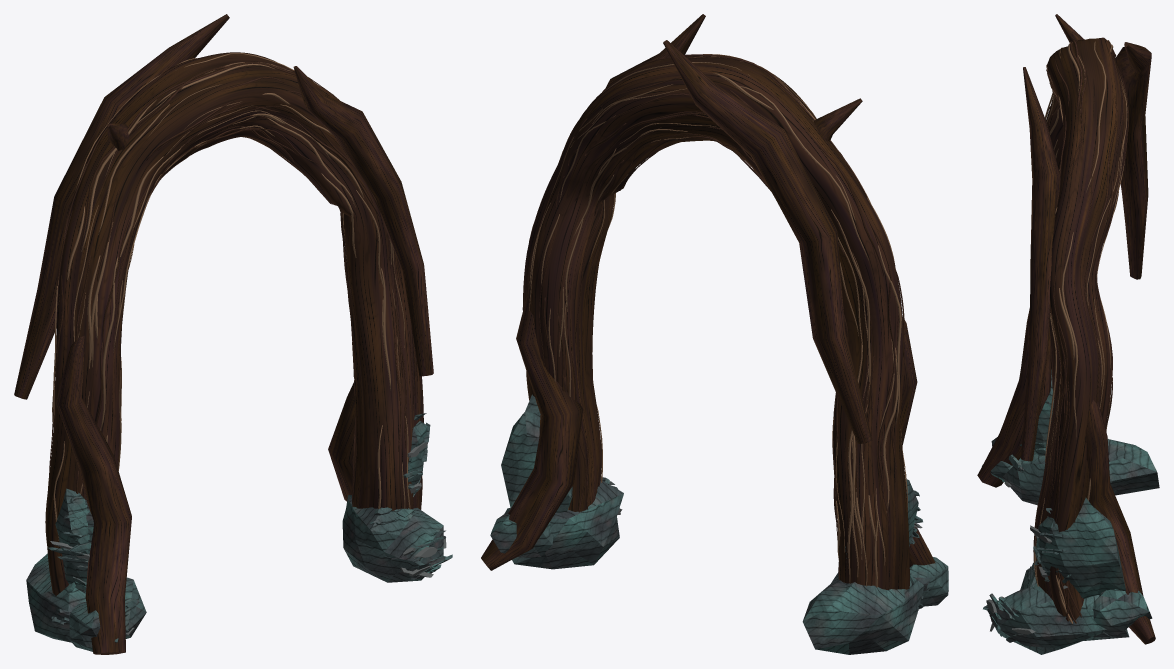
Rendered from buried_forest_root_arch_refined.glb.
3 renders of one model, left to right at view 1: azimuth 30°, elevation 25°; view 2: azimuth 150°, elevation 25°; view 3: azimuth 270°, elevation 25°, orthographic. The views are drawn at different scales.
Visible parts, largest first — view 1: Main vault root, Left grasping root, Right crown fork, Frayed longitudinal root fibers 2, Rear crown fork, Frayed longitudinal root fibers 1, Right footing, Left footing, Fractured laminae and edge spalls 1, Right grasping root, Broken left upright, Left moss fragment (+2 smaller); view 2: Main vault root, Rear crown fork, Right grasping root, Frayed longitudinal root fibers 2, Frayed longitudinal root fibers 1, Left footing, Right footing, Broken right upright, Left grasping root, Left moss fragment, Right moss fragment, Left crown spur (+1 smaller); view 3: Main vault root, Right crown fork, Rear crown fork, Broken right upright, Frayed longitudinal root fibers 1, Right footing, Right grasping root, Left footing, Frayed longitudinal root fibers 2, Left grasping root, Right moss fragment, Fractured laminae and edge spalls 1 (+4 smaller).
Boxes of the visible parts, x1,y1,x2,y2 form: Main vault root: (45,52,423,595); Left grasping root: (56,335,131,654); Right crown fork: (293,66,433,376); Frayed longitudinal root fibers 2: (48,53,422,540); Rear crown fork: (14,14,229,399); Frayed longitudinal root fibers 1: (49,61,423,508); Right footing: (342,498,443,582); Left footing: (26,553,146,642); Fractured laminae and edge spalls 1: (48,413,452,628); Right grasping root: (328,380,356,501); Broken left upright: (55,488,93,593); Left moss fragment: (69,602,126,651); Main vault root: (522,56,909,589); Rear crown fork: (663,40,872,443); Right grasping root: (481,295,583,570); Frayed longitudinal root fibers 2: (529,54,907,587); Frayed longitudinal root fibers 1: (527,54,904,579); Left footing: (802,572,924,654); Right footing: (512,479,623,569); Broken right upright: (501,394,572,512); Left grasping root: (900,317,935,567); Left moss fragment: (909,557,948,606); Right moss fragment: (490,508,553,557); Left crown spur: (814,98,862,141); Main vault root: (1033,37,1127,619); Right crown fork: (1021,67,1060,461); Rear crown fork: (1115,42,1151,279); Broken right upright: (1036,497,1125,598); Frayed longitudinal root fibers 1: (1036,39,1128,623); Right footing: (987,569,1129,654); Right grasping root: (1085,400,1155,644); Left footing: (1002,439,1159,505); Frayed longitudinal root fibers 2: (1034,39,1127,623); Left grasping root: (977,308,1051,487); Right moss fragment: (1092,589,1152,637); Fractured laminae and edge spalls 1: (983,400,1071,642).
Size of the model in its own units: 2.97 by 4.14 by 1.25.
4 materials, 2 textured.
